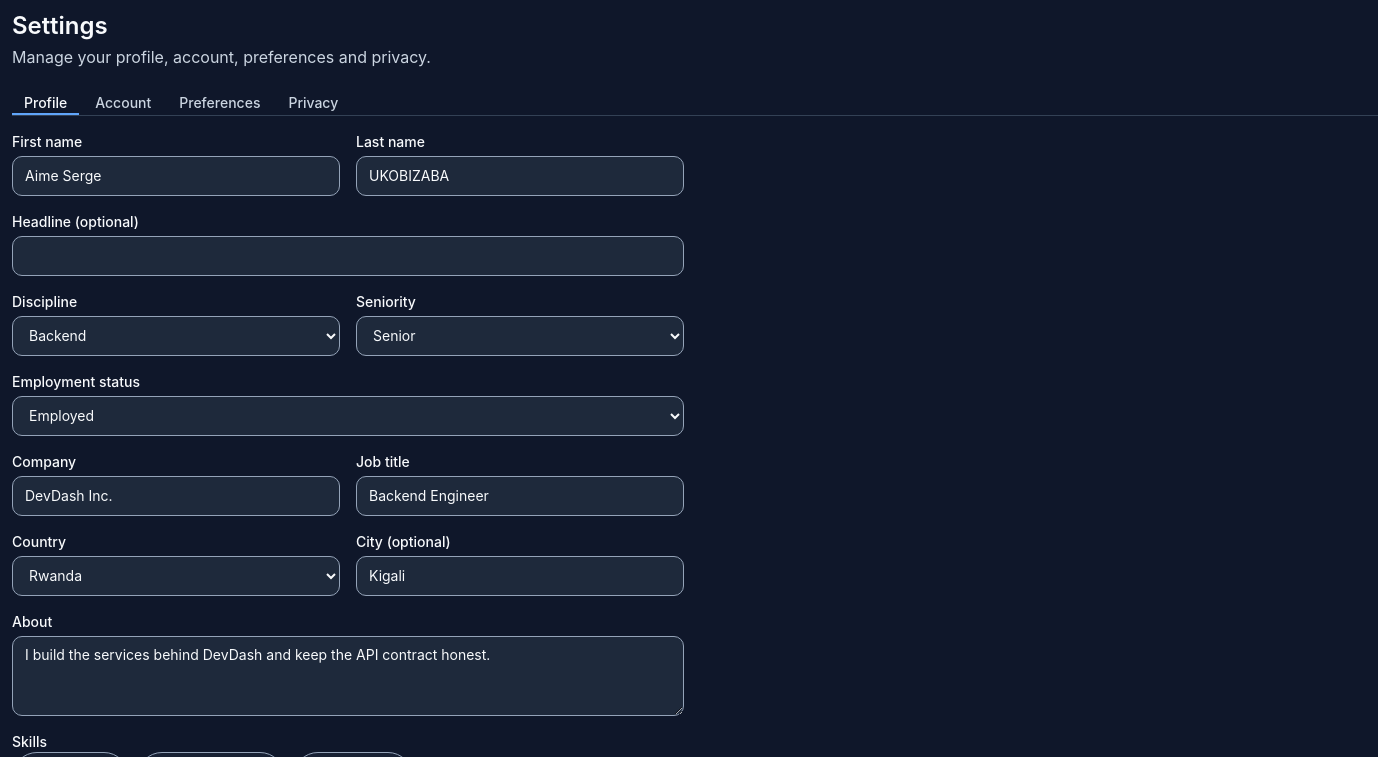
Scenario: MF-12 settings › MF-15: preferences save the theme and time zone together
Click the tab "Preferences": (220, 104) [167,93,272,115]
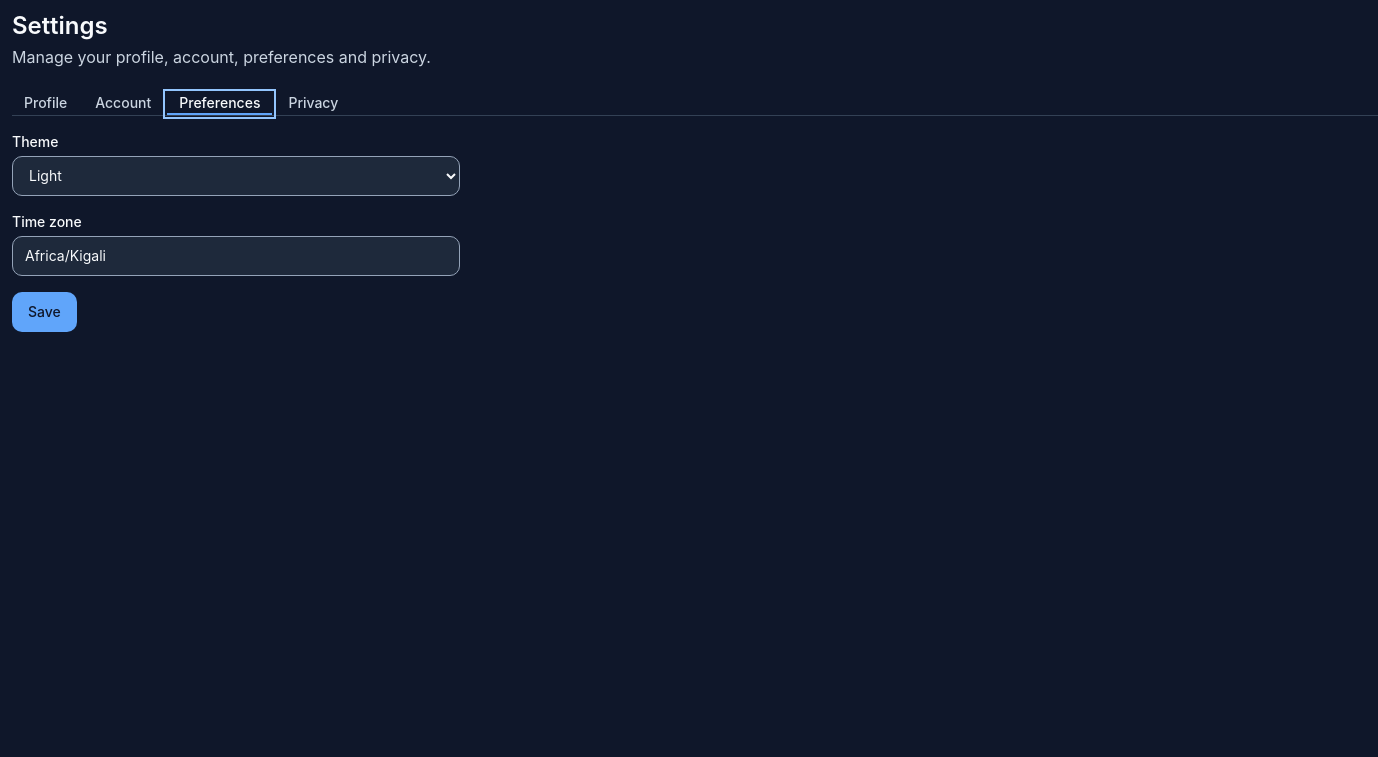
Select "Light" in the dropdown labelled "Theme": (236, 176) [12,156,460,196]
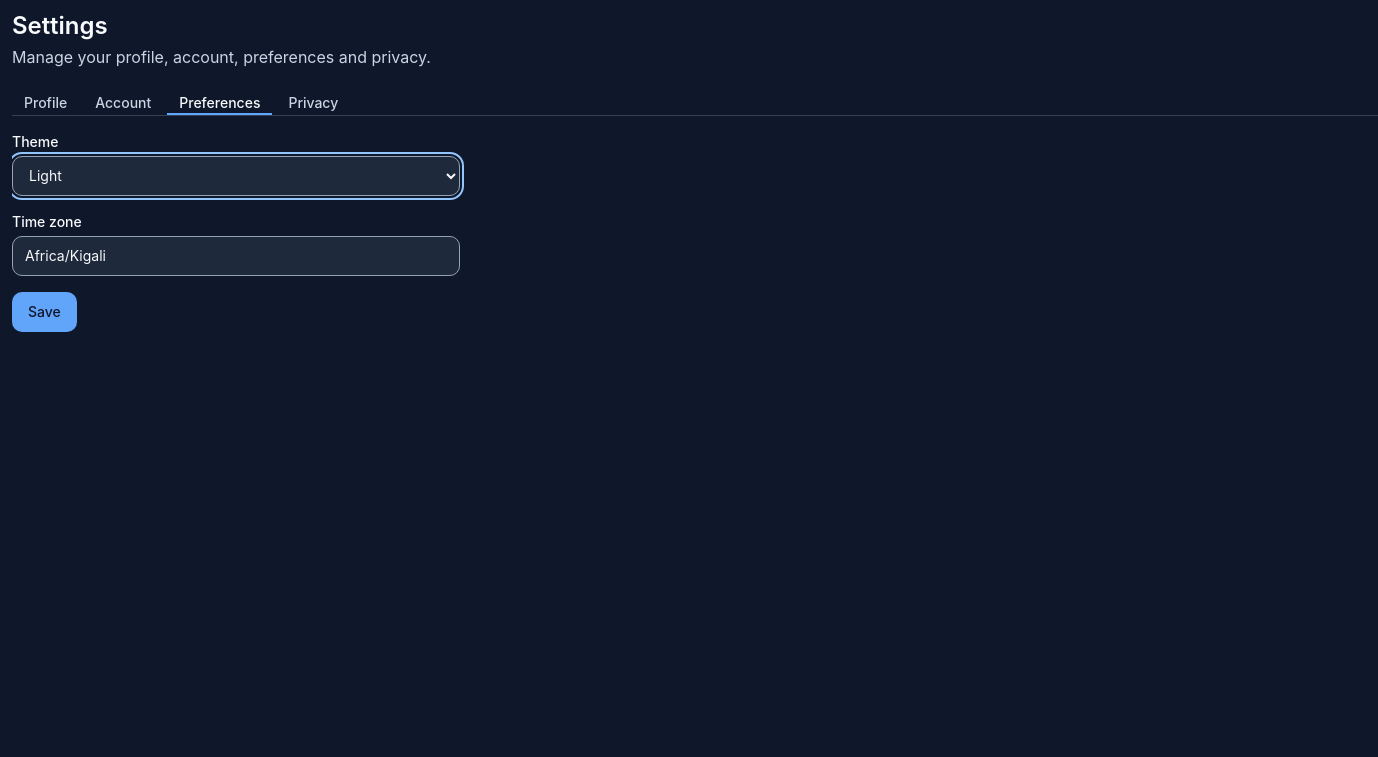
Click the button "Save": (44, 312) [12,292,77,332]
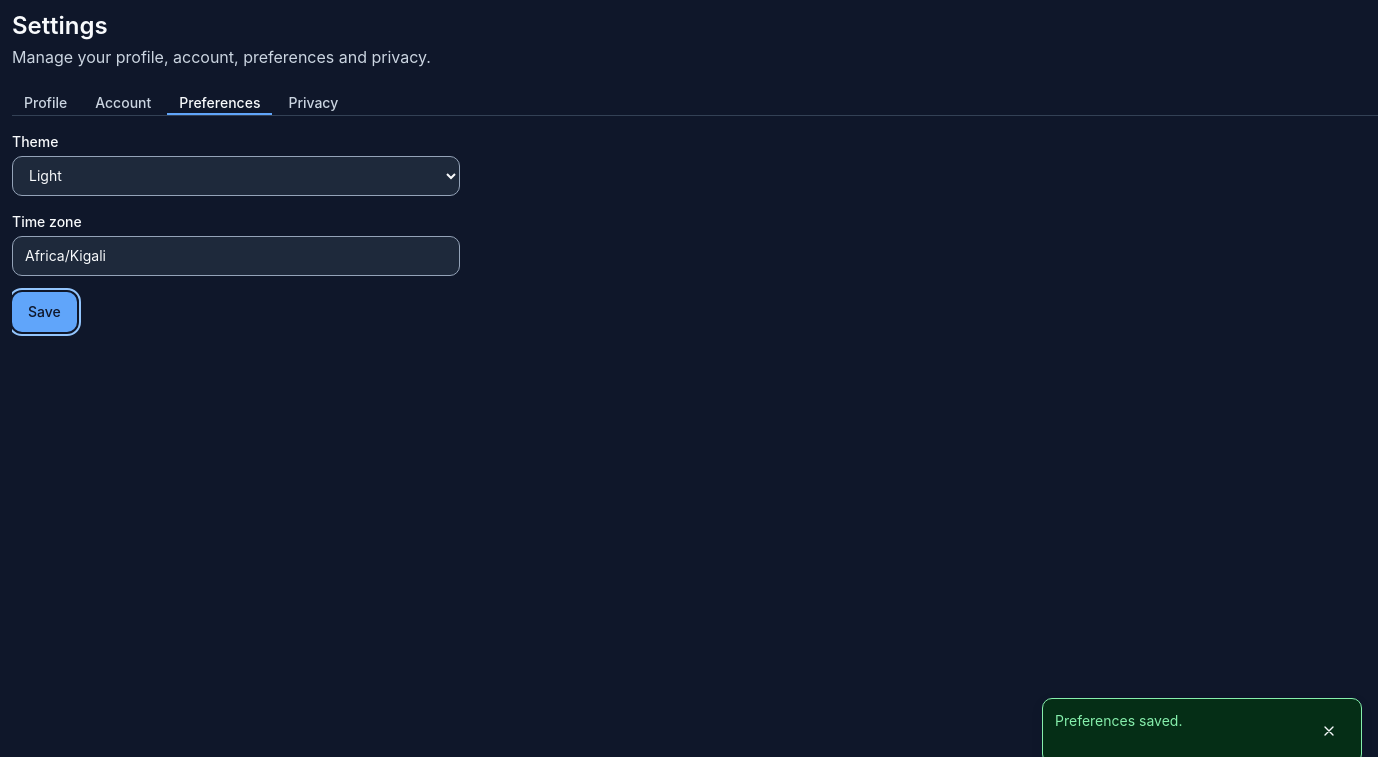
Expected: the text "Preferences saved." is shown, [1055,712,1182,729]
